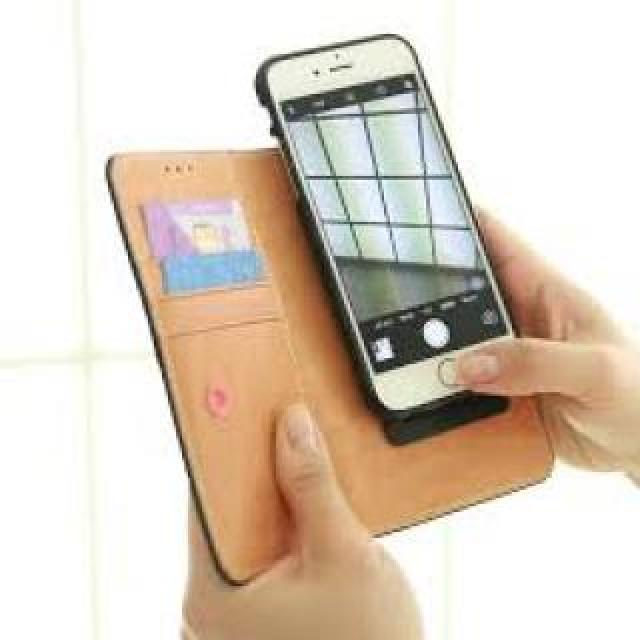smart phone: (253, 30, 557, 423)
